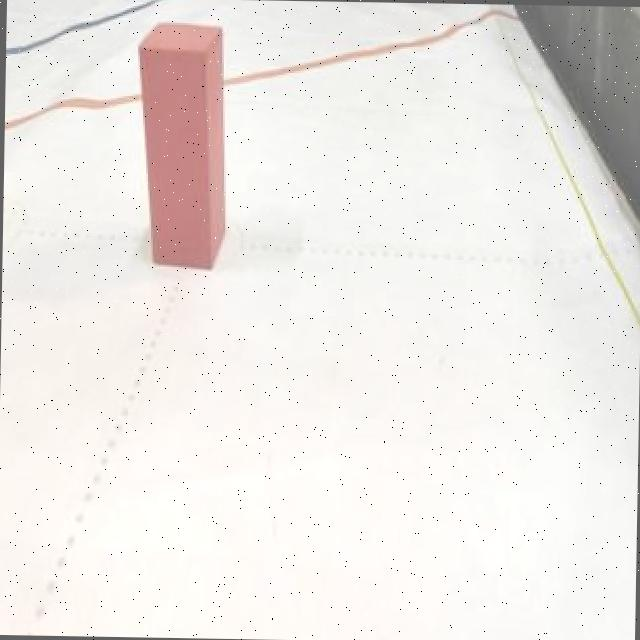redbox: (132, 17, 226, 268)
